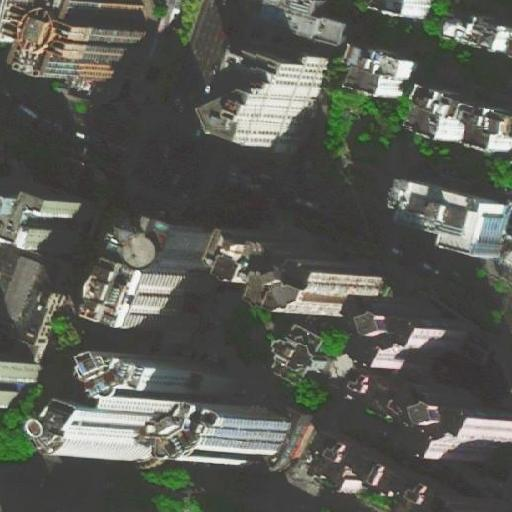building: (13, 339, 239, 471), (191, 228, 418, 329), (69, 216, 218, 340), (194, 50, 339, 157), (131, 397, 316, 471), (387, 384, 512, 476), (396, 182, 512, 262), (306, 429, 417, 500), (357, 302, 468, 372), (314, 80, 391, 168), (414, 91, 512, 157), (13, 262, 69, 374), (343, 43, 416, 100), (273, 329, 325, 379), (448, 10, 512, 50), (47, 153, 91, 190), (0, 383, 21, 404)
